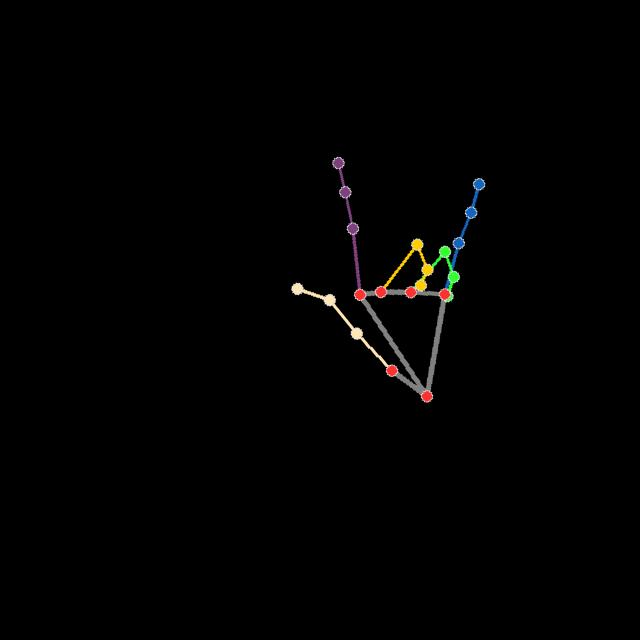spiderman: (291, 155, 488, 406)
